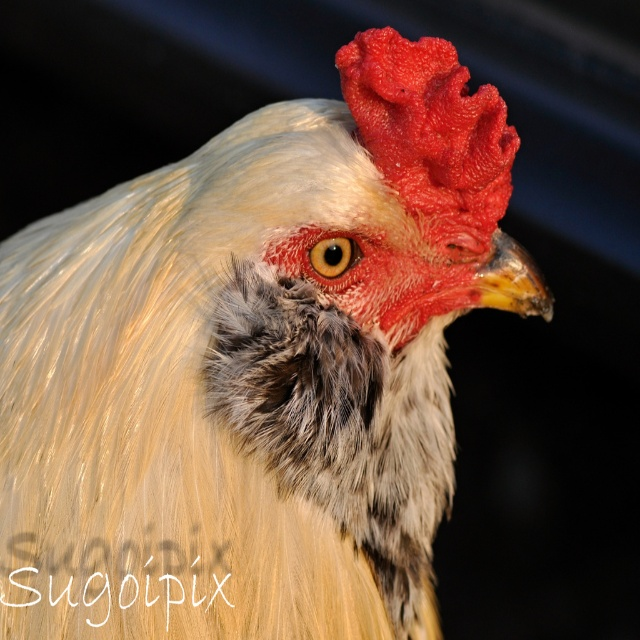Chicken: (0, 26, 556, 640)
